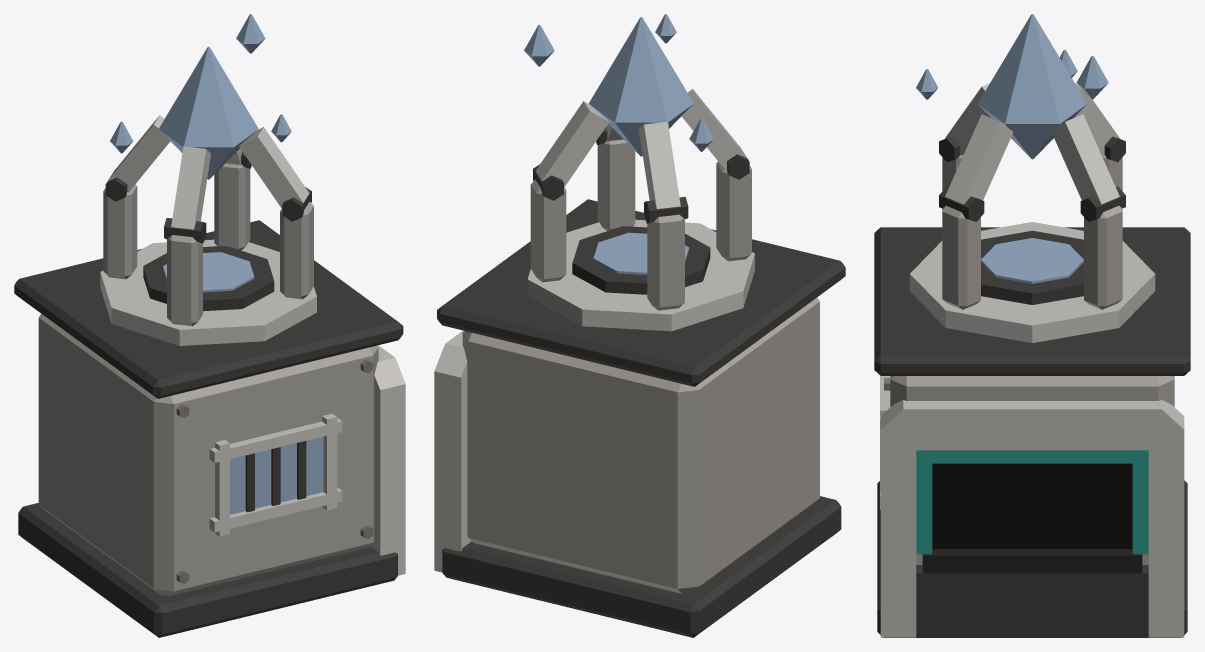
Rendered from extractor_fe.fbx.
The picture shows the model from 3 angles, left to right: view 1: azimuth 30°, elevation 25°; view 2: azimuth 150°, elevation 25°; view 3: azimuth 270°, elevation 25°; orthographic projection. The views are drawn at different scales.
Visible parts, largest first — view 1: extractor_fe; view 2: extractor_fe; view 3: extractor_fe.
Boxes of the visible parts, x1,y1,x2,y2 form: extractor_fe: (14, 14, 405, 637); extractor_fe: (434, 14, 845, 637); extractor_fe: (874, 14, 1190, 637).
Bounding box in the file's own units: 2.97 × 5.75 × 2.94.
